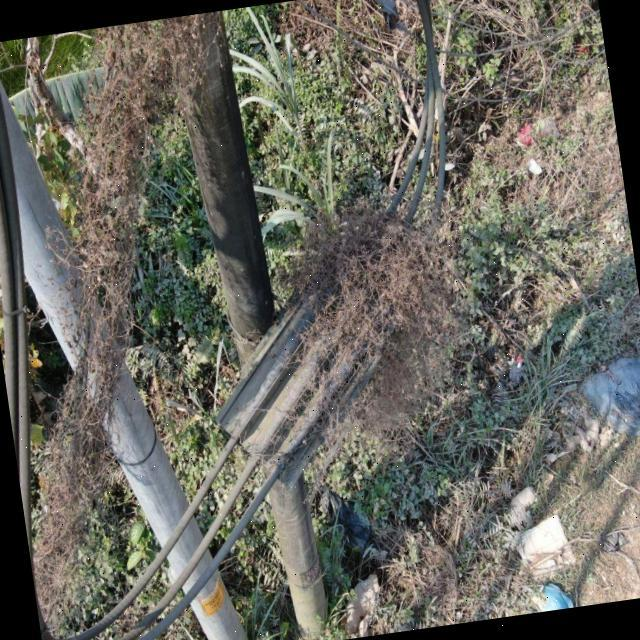critical vegetation: (0, 11, 501, 640)
